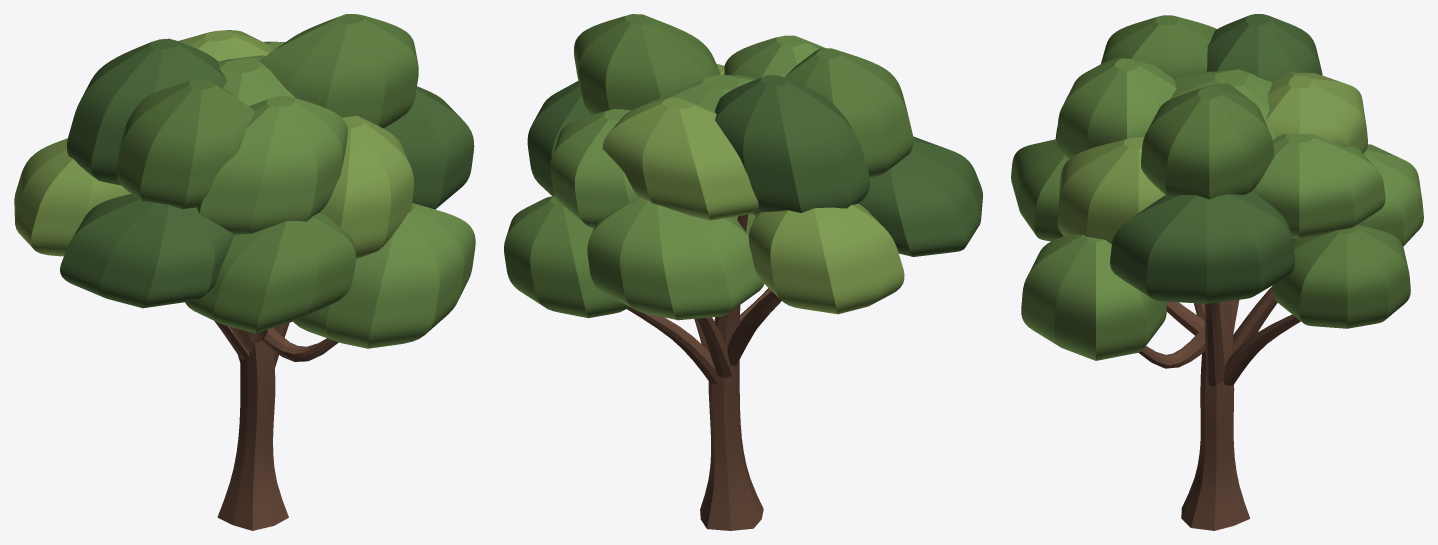
File: round_oak.glb
The picture shows the model from 3 angles, left to right: view 1: azimuth 30°, elevation 25°; view 2: azimuth 150°, elevation 25°; view 3: azimuth 270°, elevation 25°; orthographic projection.
Visible parts, largest first — view 1: Oak crown 7.1, Oak crown 5.1, Oak crown 6.2, Oak crown 6.1, Oak crown 5.2, Oak crown 1.2, Oak crown 4.2, Oak crown 7.2, Flared trunk, Oak crown 4.1, Oak crown 1.1, Oak crown top (+2 smaller); view 2: Oak crown 3.1, Oak crown 4.2, Oak crown 4.1, Oak crown 3.2, Oak crown 1.2, Oak crown 5.1, Oak crown 2.1, Oak crown 5.2, Flared trunk, Oak crown 2.2, Oak crown 1.1, Oak crown 6.2 (+4 smaller); view 3: Oak crown 1.1, Oak crown 7.1, Oak crown 1.2, Oak crown 2.1, Oak crown 2.2, Oak crown 6.2, Oak crown 7.2, Flared trunk, Oak crown 3.2, Oak crown 4.2, Oak crown 5.2, Oak crown 6.1 (+7 smaller).
Boxes of the visible parts, bbox=[...] form: Oak crown 7.1: bbox=[293, 203, 475, 348]; Oak crown 5.1: bbox=[60, 194, 234, 308]; Oak crown 6.2: bbox=[197, 96, 347, 234]; Oak crown 6.1: bbox=[185, 213, 355, 333]; Oak crown 5.2: bbox=[116, 79, 254, 209]; Oak crown 1.2: bbox=[259, 14, 418, 128]; Oak crown 4.2: bbox=[67, 38, 226, 185]; Oak crown 7.2: bbox=[319, 115, 413, 258]; Flared trunk: bbox=[217, 340, 288, 530]; Oak crown 4.1: bbox=[14, 138, 130, 256]; Oak crown 1.1: bbox=[384, 86, 474, 209]; Oak crown top: bbox=[218, 55, 295, 106]; Oak crown 3.1: bbox=[587, 197, 763, 320]; Oak crown 4.2: bbox=[715, 75, 869, 212]; Oak crown 4.1: bbox=[748, 203, 904, 314]; Oak crown 3.2: bbox=[602, 97, 758, 220]; Oak crown 1.2: bbox=[574, 14, 720, 114]; Oak crown 5.1: bbox=[858, 136, 982, 256]; Oak crown 2.1: bbox=[504, 196, 629, 318]; Oak crown 5.2: bbox=[784, 48, 913, 177]; Flared trunk: bbox=[700, 214, 763, 530]; Oak crown 2.2: bbox=[550, 109, 638, 228]; Oak crown 1.1: bbox=[527, 81, 591, 196]; Oak crown 6.2: bbox=[724, 35, 824, 78]; Oak crown 1.1: bbox=[1110, 192, 1295, 303]; Oak crown 7.1: bbox=[1021, 234, 1166, 360]; Oak crown 1.2: bbox=[1141, 83, 1274, 199]; Oak crown 2.1: bbox=[1273, 223, 1410, 328]; Oak crown 2.2: bbox=[1251, 133, 1385, 239]; Oak crown 6.2: bbox=[1056, 58, 1176, 158]; Oak crown 7.2: bbox=[1057, 137, 1164, 243]; Flared trunk: bbox=[1181, 300, 1250, 530]; Oak crown 3.2: bbox=[1265, 72, 1367, 153]; Oak crown 4.2: bbox=[1206, 14, 1322, 82]; Oak crown 5.2: bbox=[1101, 15, 1216, 78]; Oak crown 6.1: bbox=[1011, 139, 1068, 241].
Size of the model in its own units: 6.37 by 7.05 by 5.63.
